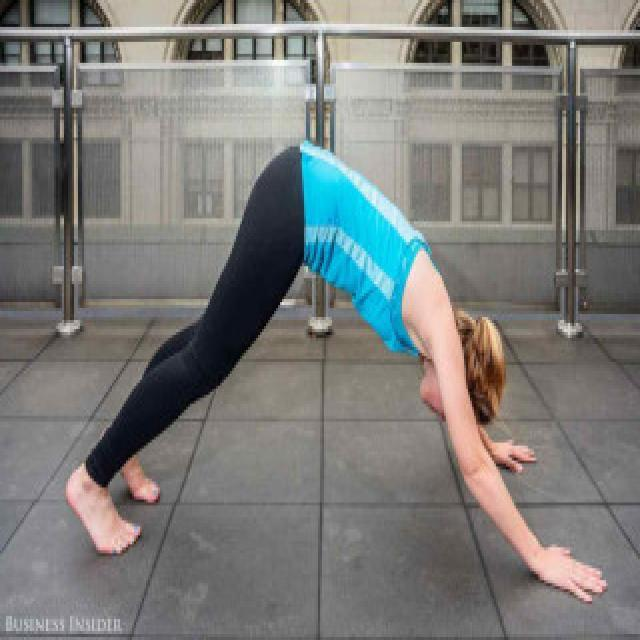yoga-pose downward: (63, 142, 612, 606)
